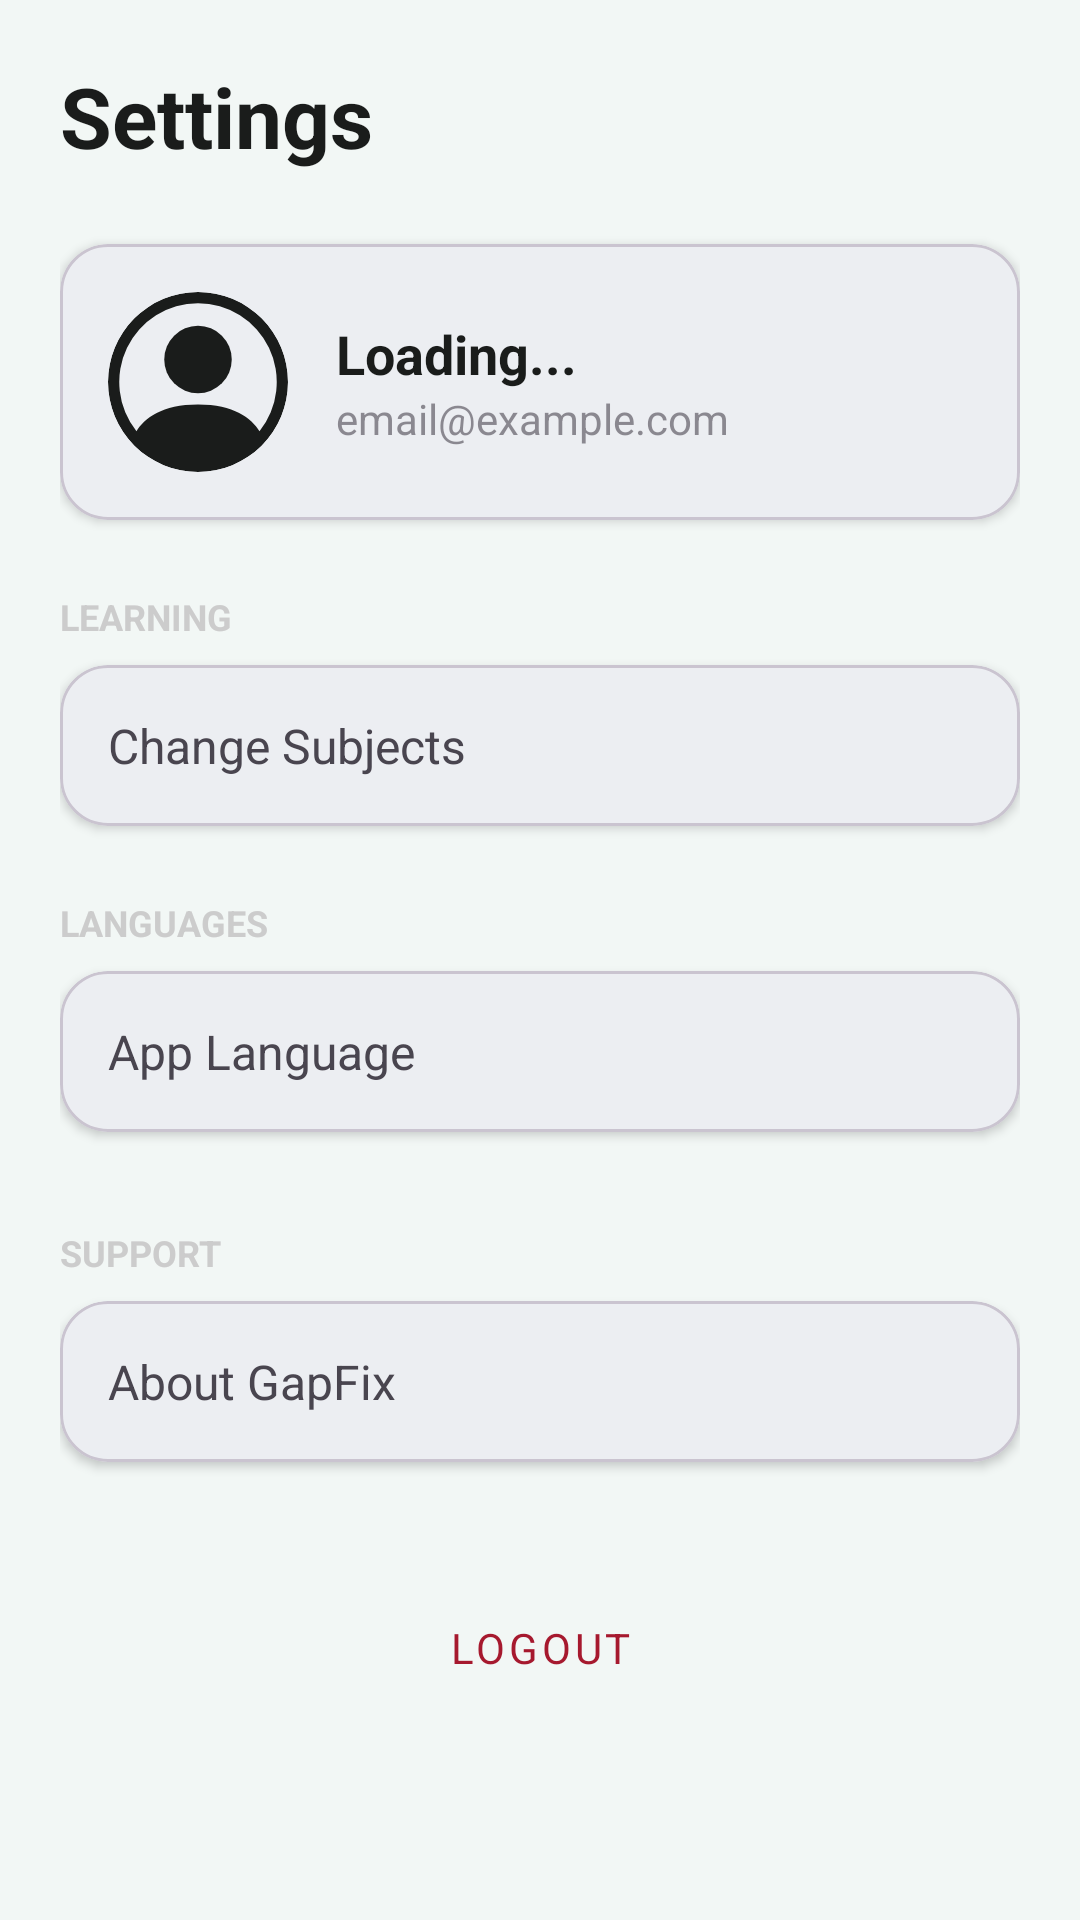

Where icons sit on this 1080px×1920px app screen, as bbox(x1, y1, x2, y2):
person circle: bbox(108, 292, 288, 472)
